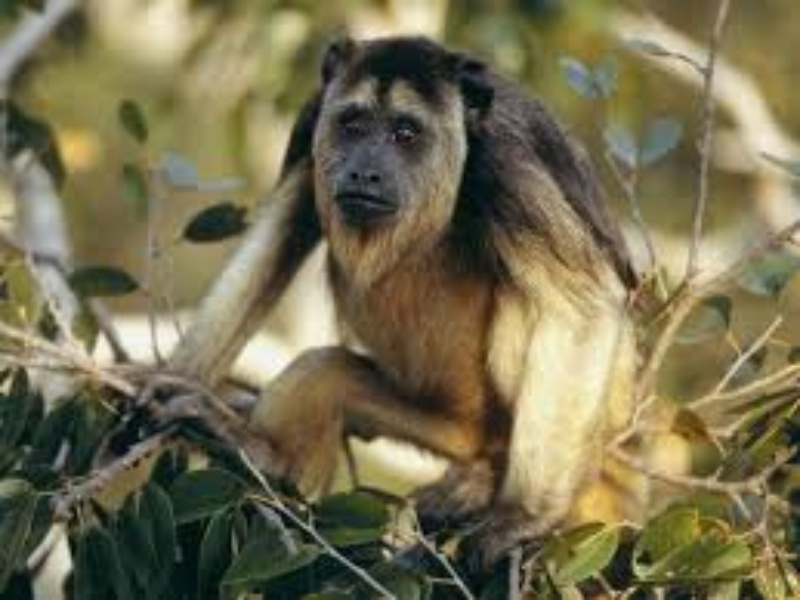monkey: (183, 22, 648, 565)
